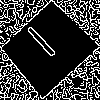I: (23, 23, 65, 66)
